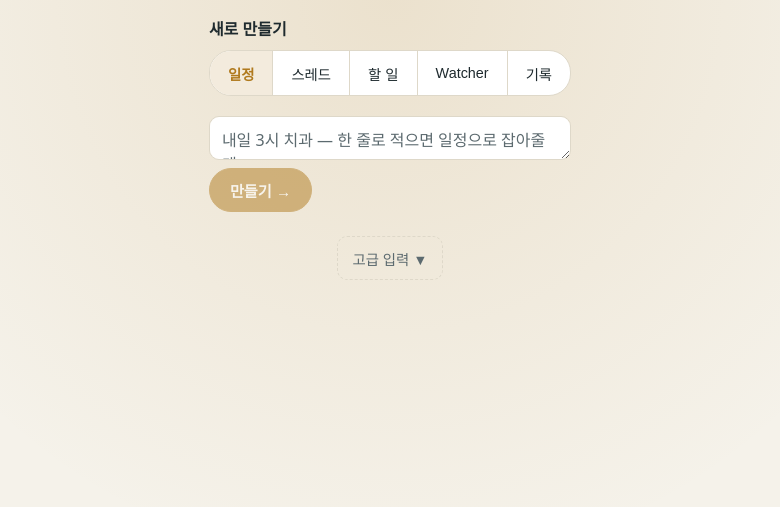
Scenario: InputHub — Composer 일정 mode › raw-stored result shows '날짜 없이 저장됐어'
This screenshot has width=780, height=507.
Expected: the element with test id "input-quiet" is shown, [209,18,571,280]
Type "운동" into the text box named "만들기 입력" at (390, 138), box [209,116,571,160]
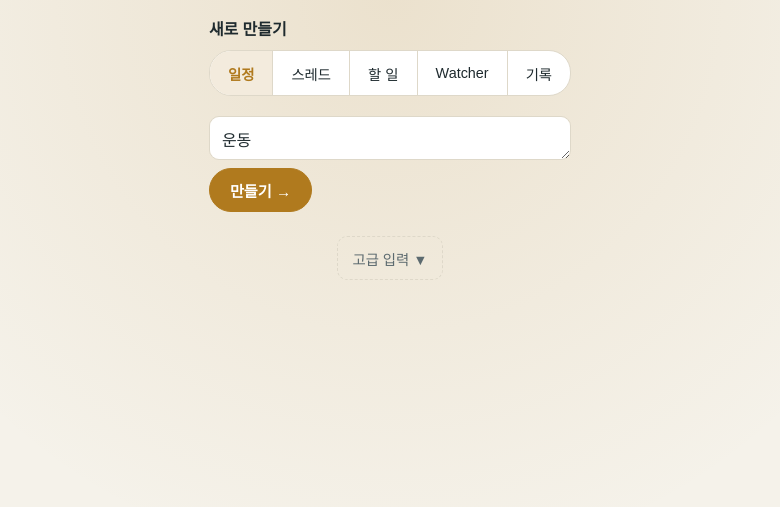
Click the button labelled "만들기 →" at (261, 190), box [209,168,312,212]
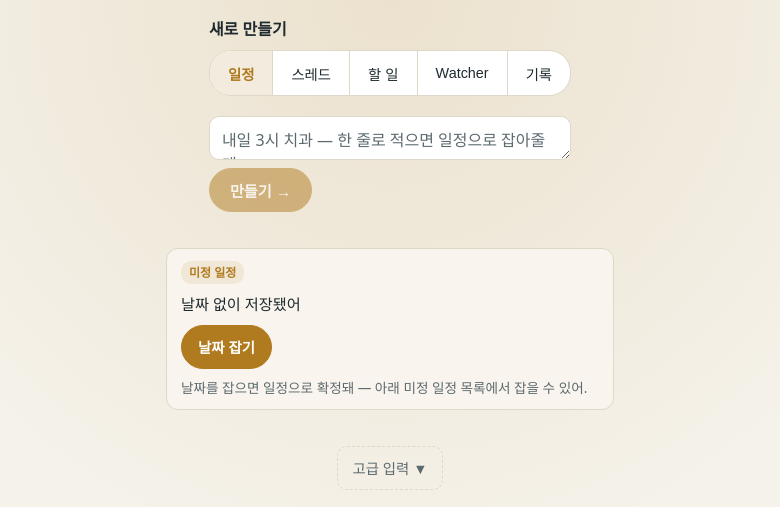
Result: the text "날짜 없이 저장됐어" is shown at [181,294,301,314]
